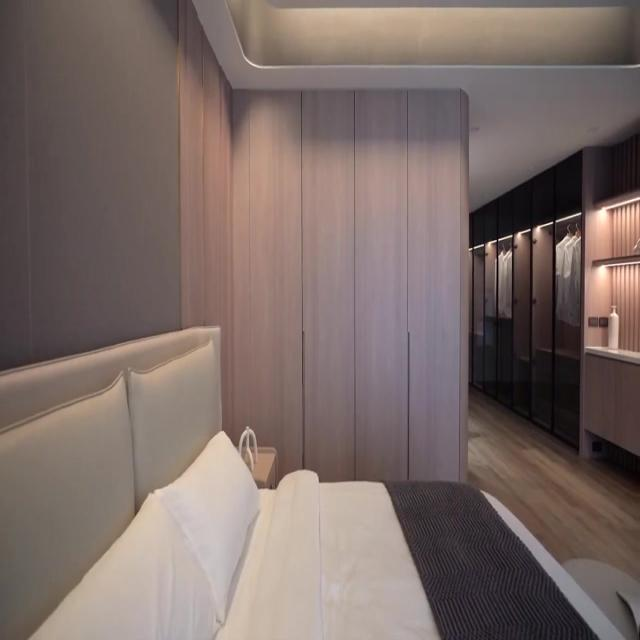obstacle: (0, 324, 632, 638)
